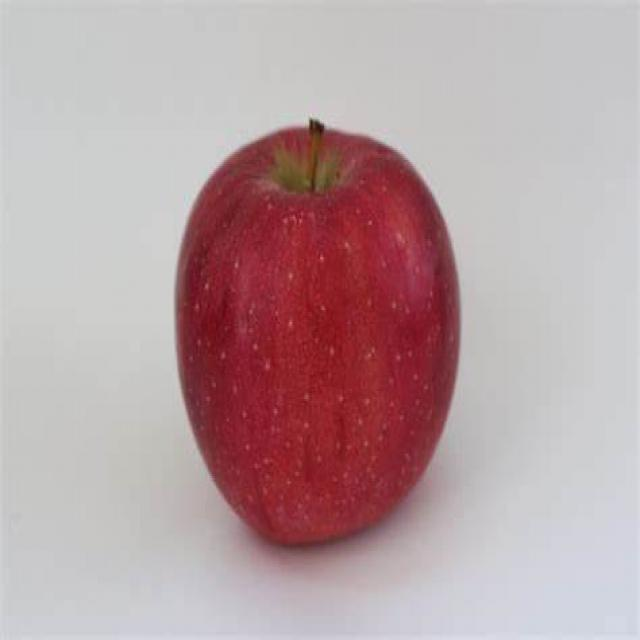Apple: (168, 109, 470, 562)
